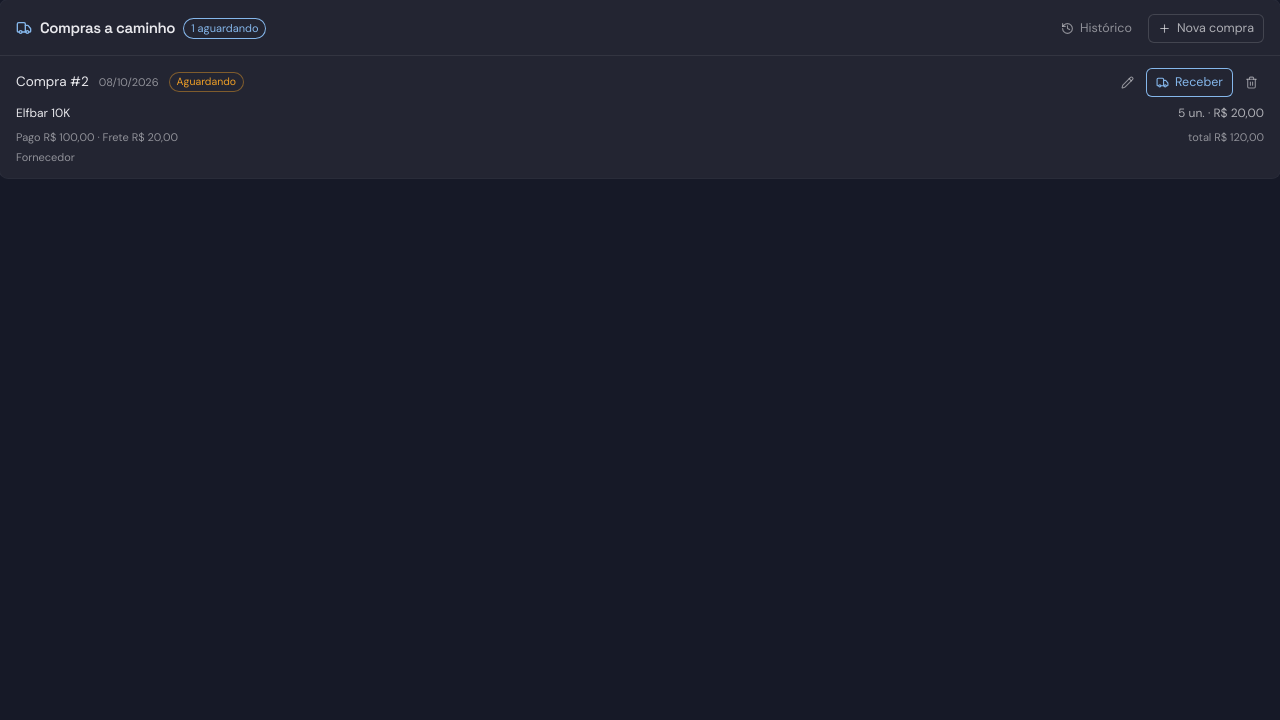
it: edição de compras a caminho › não oferece edição de compra recebida no histórico
The image size is (1280, 720).
Click the button "Histórico" at (1096, 28), box [1051, 14, 1142, 43]
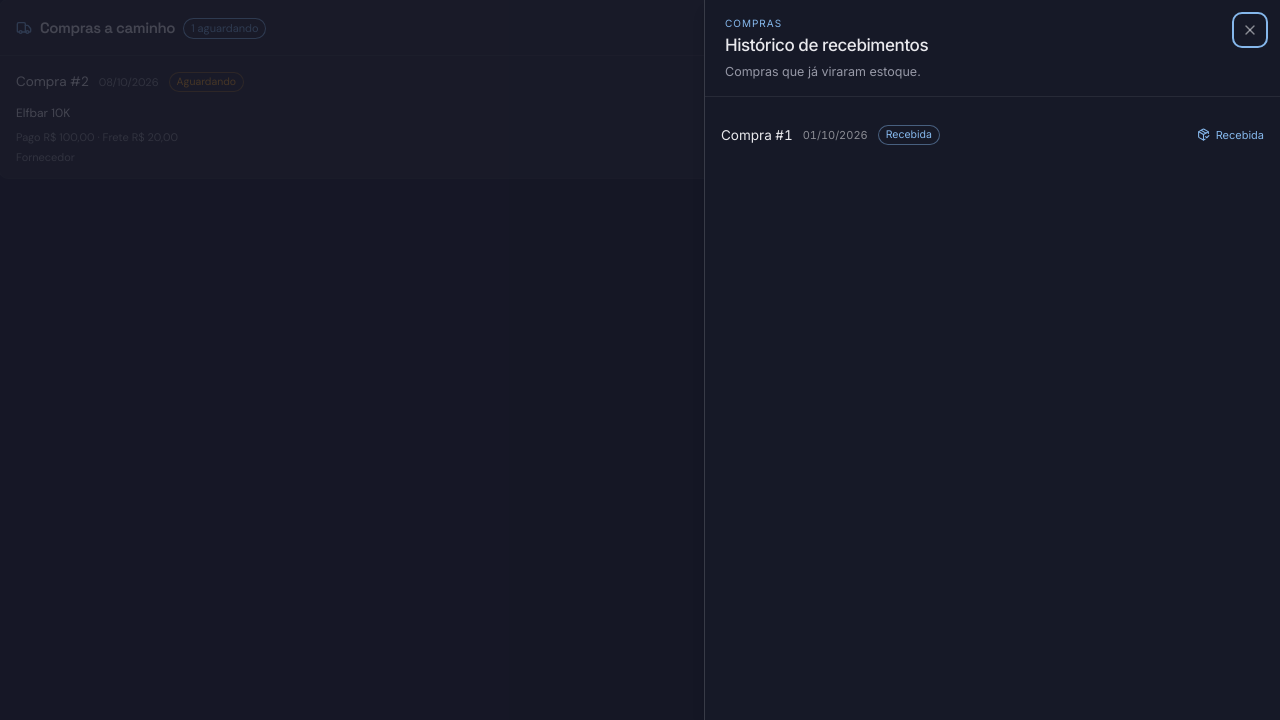
Expected: the text "Compra #1" is shown, [721, 125, 793, 145]
